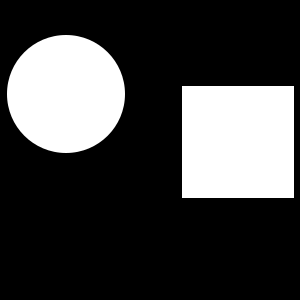circle: (182, 86, 294, 198)
rectangle: (7, 35, 125, 153)
